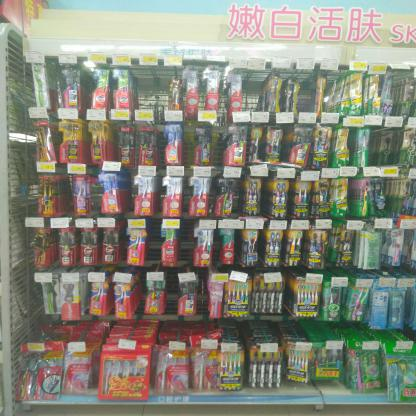Void: (139, 77, 167, 109), (289, 383, 344, 394), (148, 219, 160, 266), (179, 220, 191, 266), (244, 81, 261, 110), (300, 78, 311, 115)
